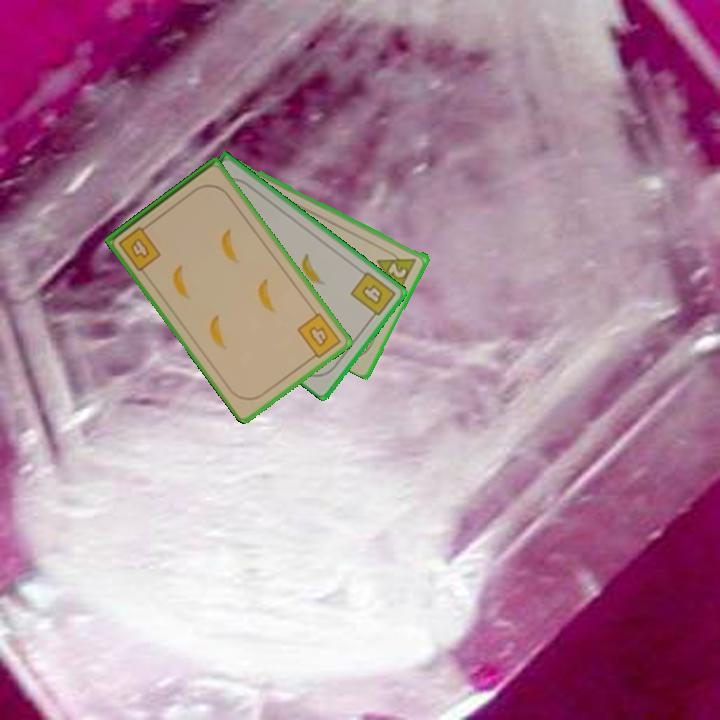2p: (374, 244, 420, 295)
4b: (347, 268, 399, 323), (294, 309, 344, 364), (115, 220, 164, 274)
